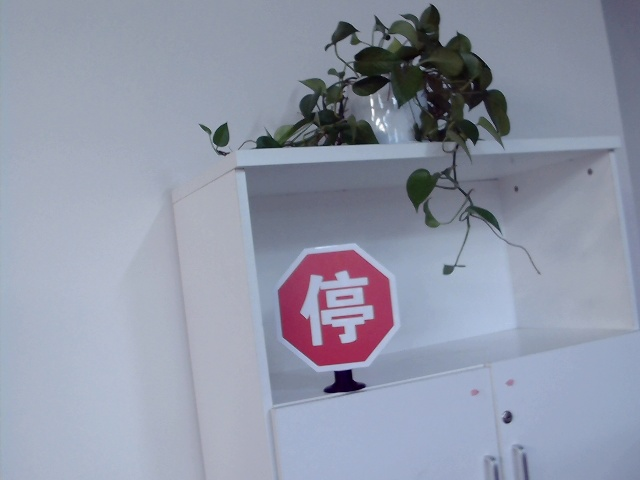stop: (299, 271, 375, 346)
